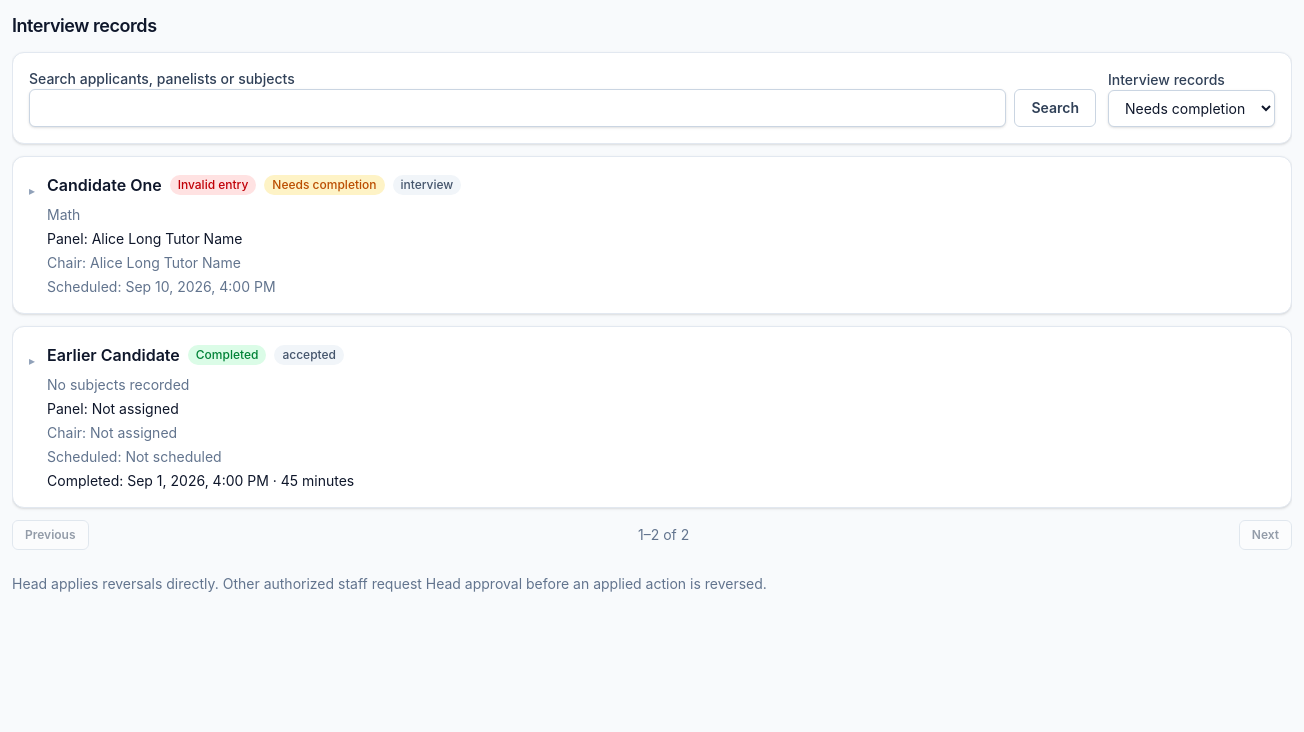
retains invalid interview history without offering completion writes
The width and height of the screenshot is (1304, 732).
Click the button "Candidate One Invalid entry" at (652, 235), box [13,157,1291,313]
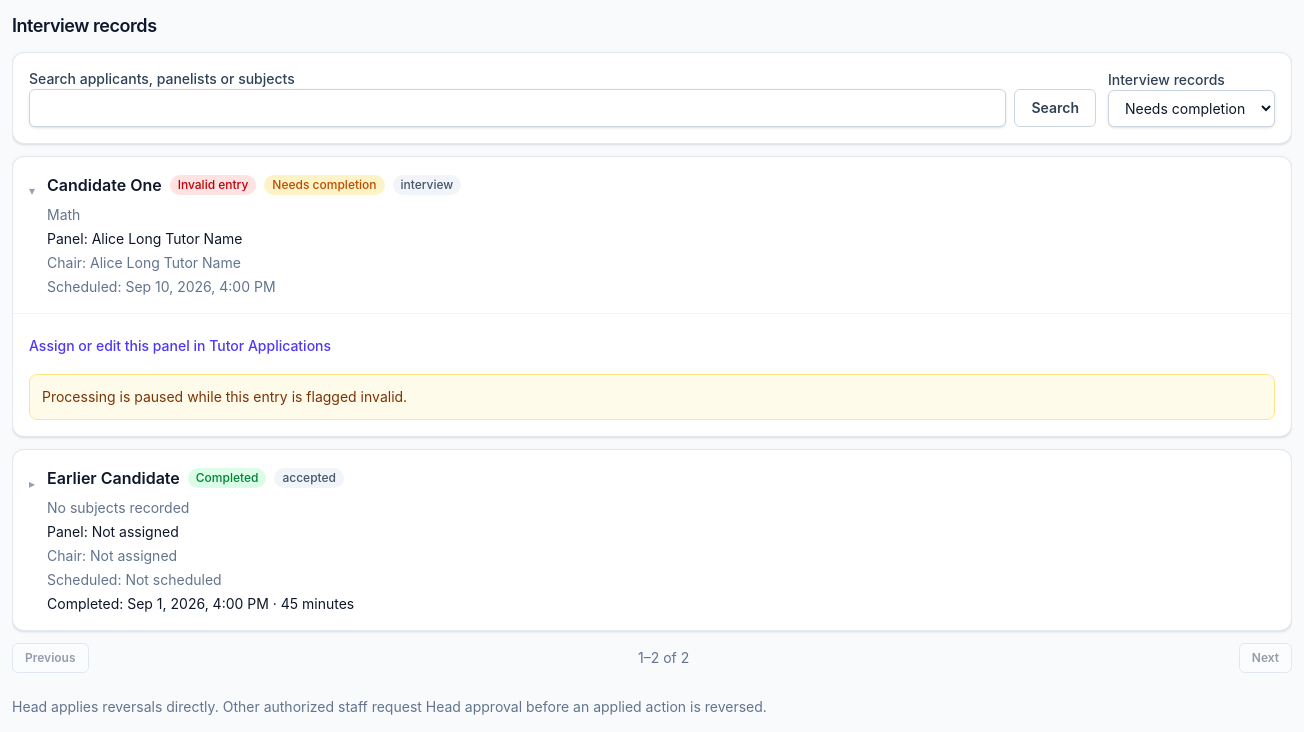
Check: the text "Processing is paused while this entry is flagged invalid." is shown, box [42,388,407,405]
Check: the link "Assign or edit this panel in Tutor Applications" is shown, box [29,337,331,354]
